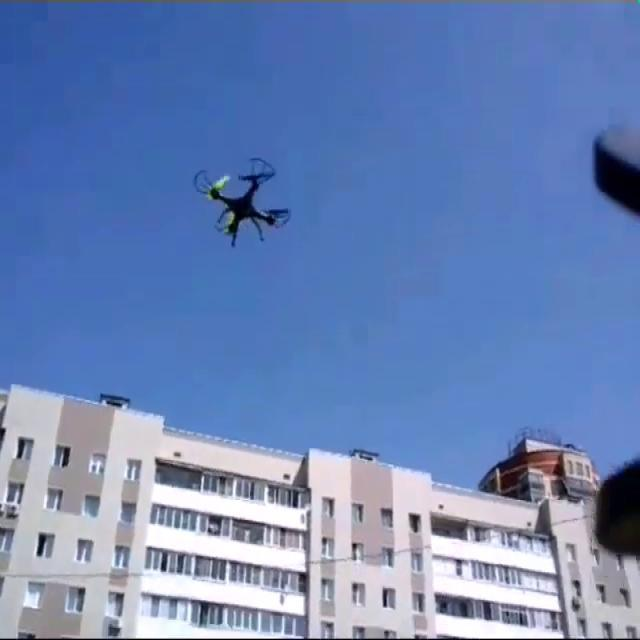Drons: (184, 152, 298, 254)
